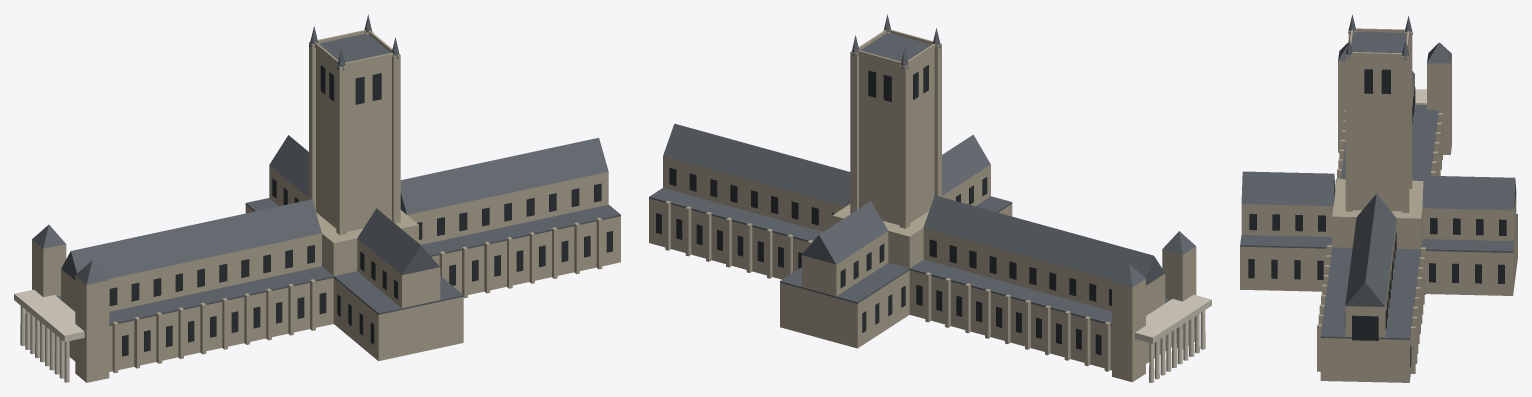
The model's file is st-pauls-site-b50.glb.
3 renders of one model, left to right at view 1: azimuth 30°, elevation 25°; view 2: azimuth 150°, elevation 25°; view 3: azimuth 270°, elevation 25°, orthographic. The views are drawn at different scales.
Bounding box in the file's own units: 198 × 91.99 × 93.49.
